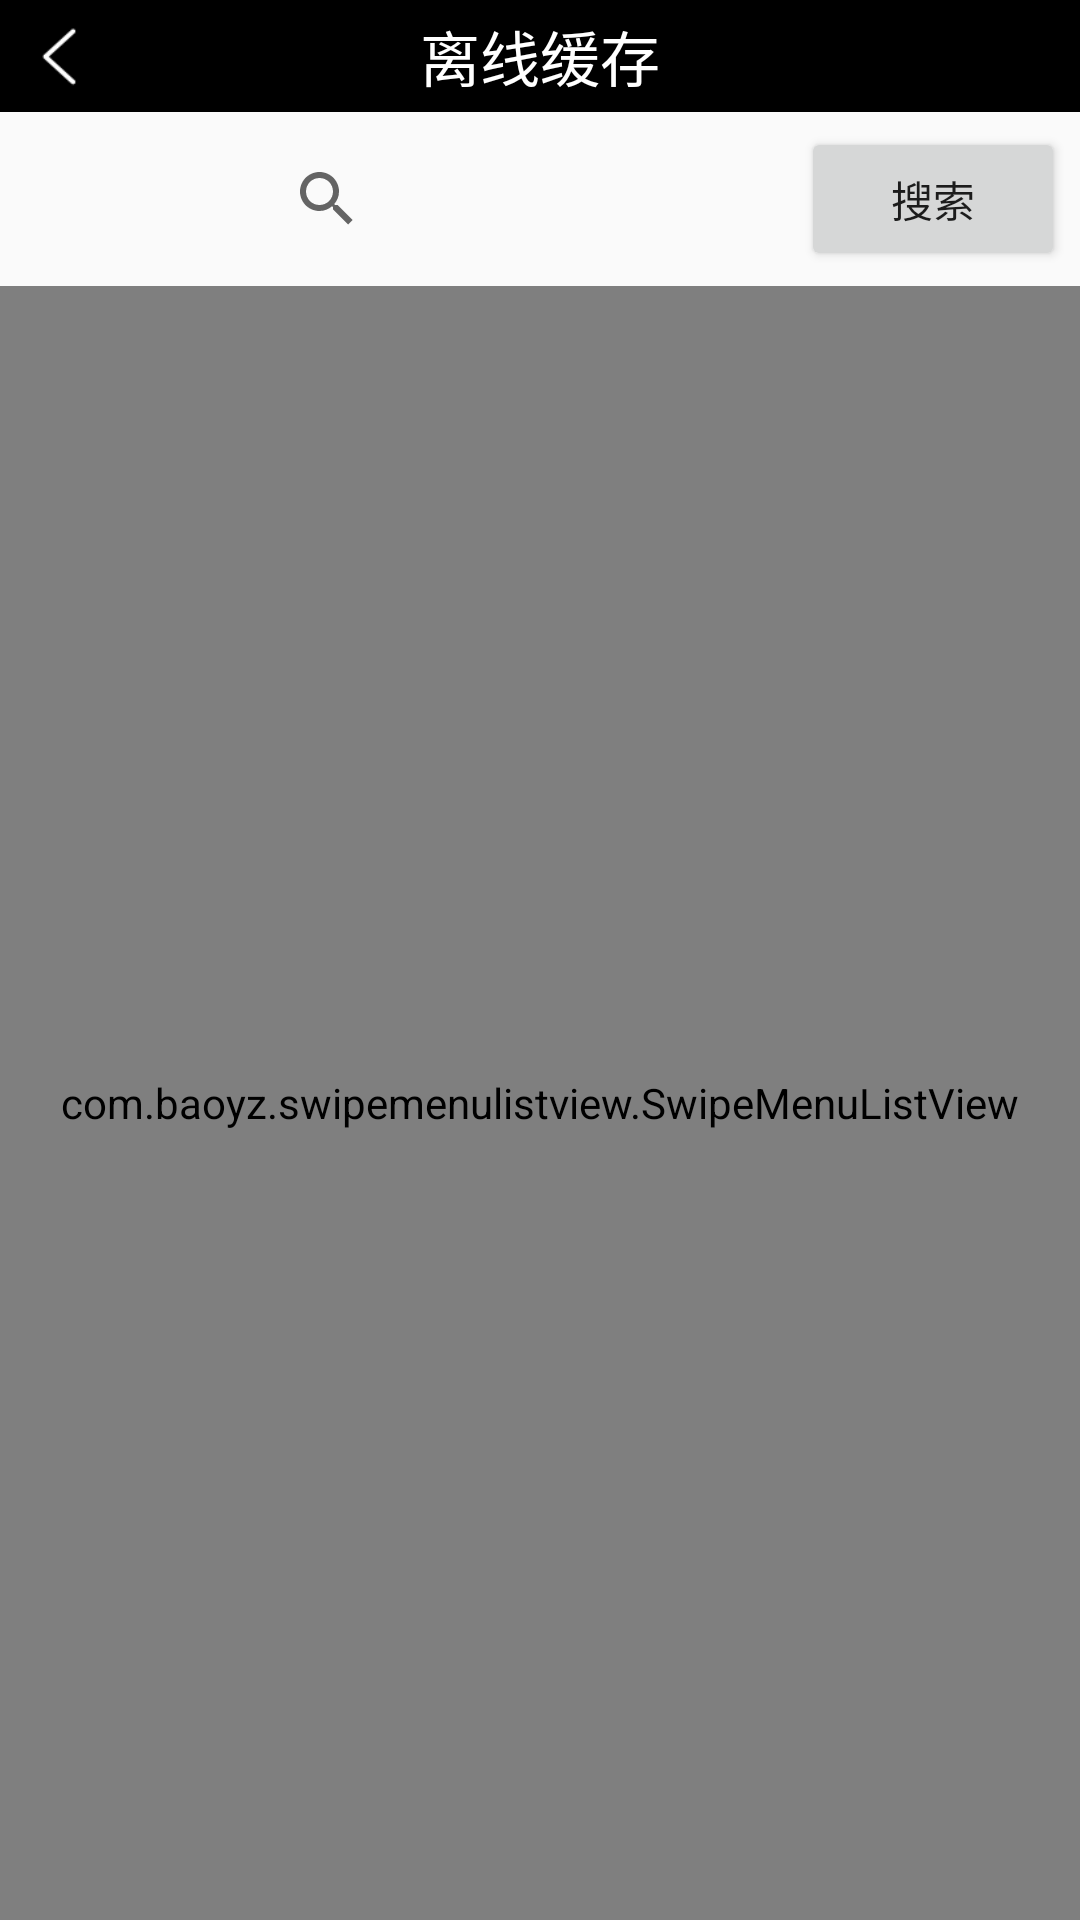

Named icons in this screenshot (1080w x 1920h) and their bounding boxes, (x1, y1, x2, y2):
settings back: (42, 28, 76, 85)
